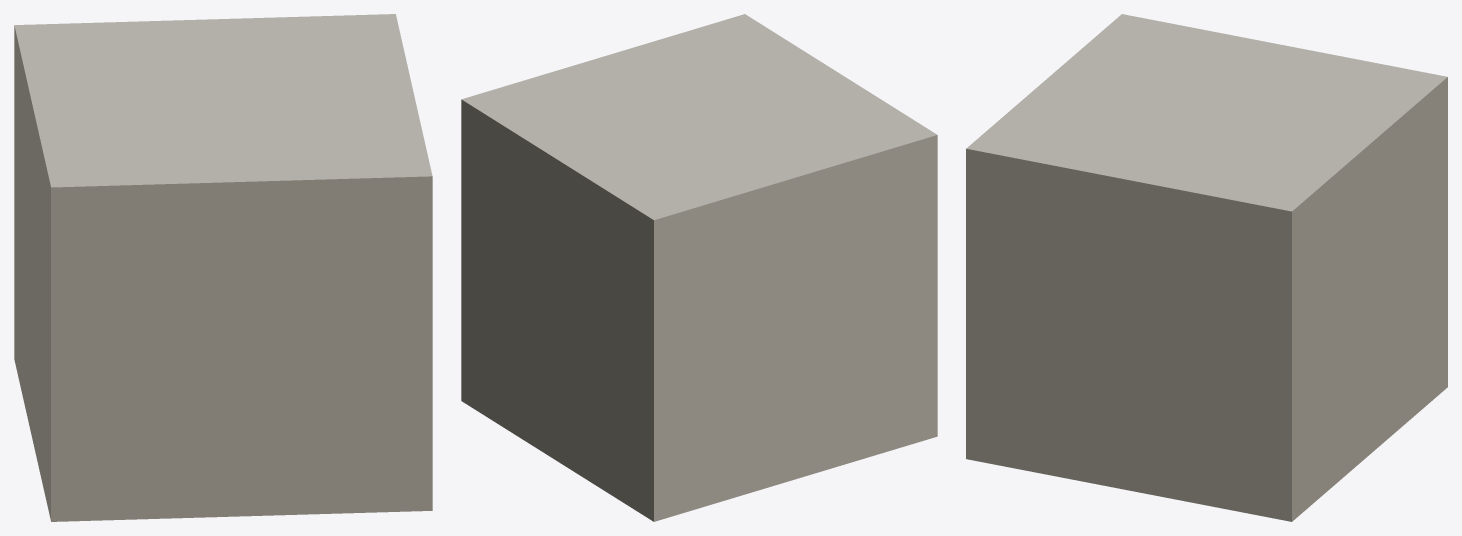
3 views of the same model, side by side, from view 1: azimuth 30°, elevation 25°; view 2: azimuth 150°, elevation 25°; view 3: azimuth 270°, elevation 25° (orthographic). The views are drawn at different scales.
Parts seen in each view (by area): view 1: tuile; view 2: tuile; view 3: tuile.
Boxes of the visible parts, x1,y1,x2,y2 form: tuile: (14,14,432,521); tuile: (461,14,937,521); tuile: (966,14,1447,521).
Bounding box in the file's own units: 6.6 × 4.83 × 6.8.
